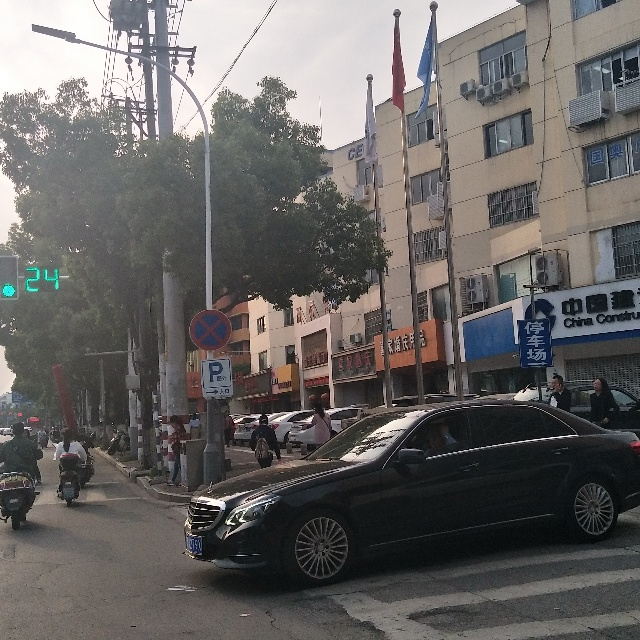stop: (193, 313, 232, 350)
